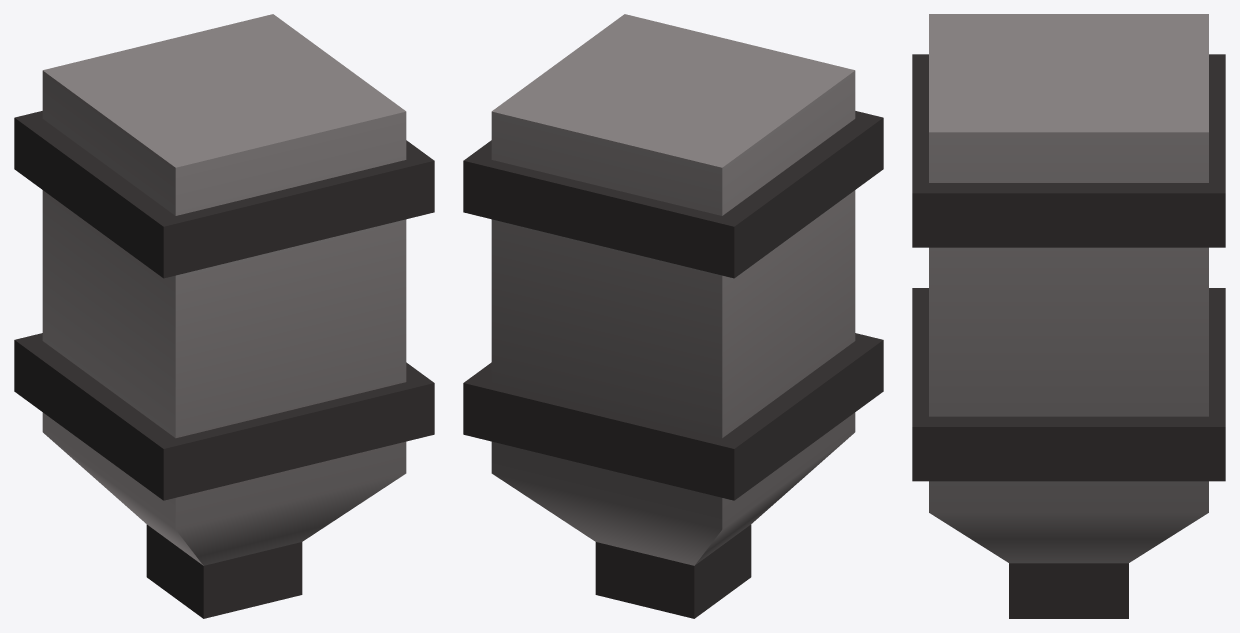
File: Fireman Tank 01.FBX
The picture shows the model from 3 angles, left to right: view 1: azimuth 30°, elevation 25°; view 2: azimuth 150°, elevation 25°; view 3: azimuth 270°, elevation 25°; orthographic projection. The views are drawn at different scales.
Visible parts, largest first — view 1: Fireman Tank 01; view 2: Fireman Tank 01; view 3: Fireman Tank 01.
Part boxes in pixels (x1,y1,x2,y2): Fireman Tank 01: [14, 14, 434, 618]; Fireman Tank 01: [463, 14, 883, 618]; Fireman Tank 01: [912, 14, 1225, 618].
Size of the model in its own units: 23.04 by 21.98 by 40.25.
Materials: 1 (1 with a texture image).
